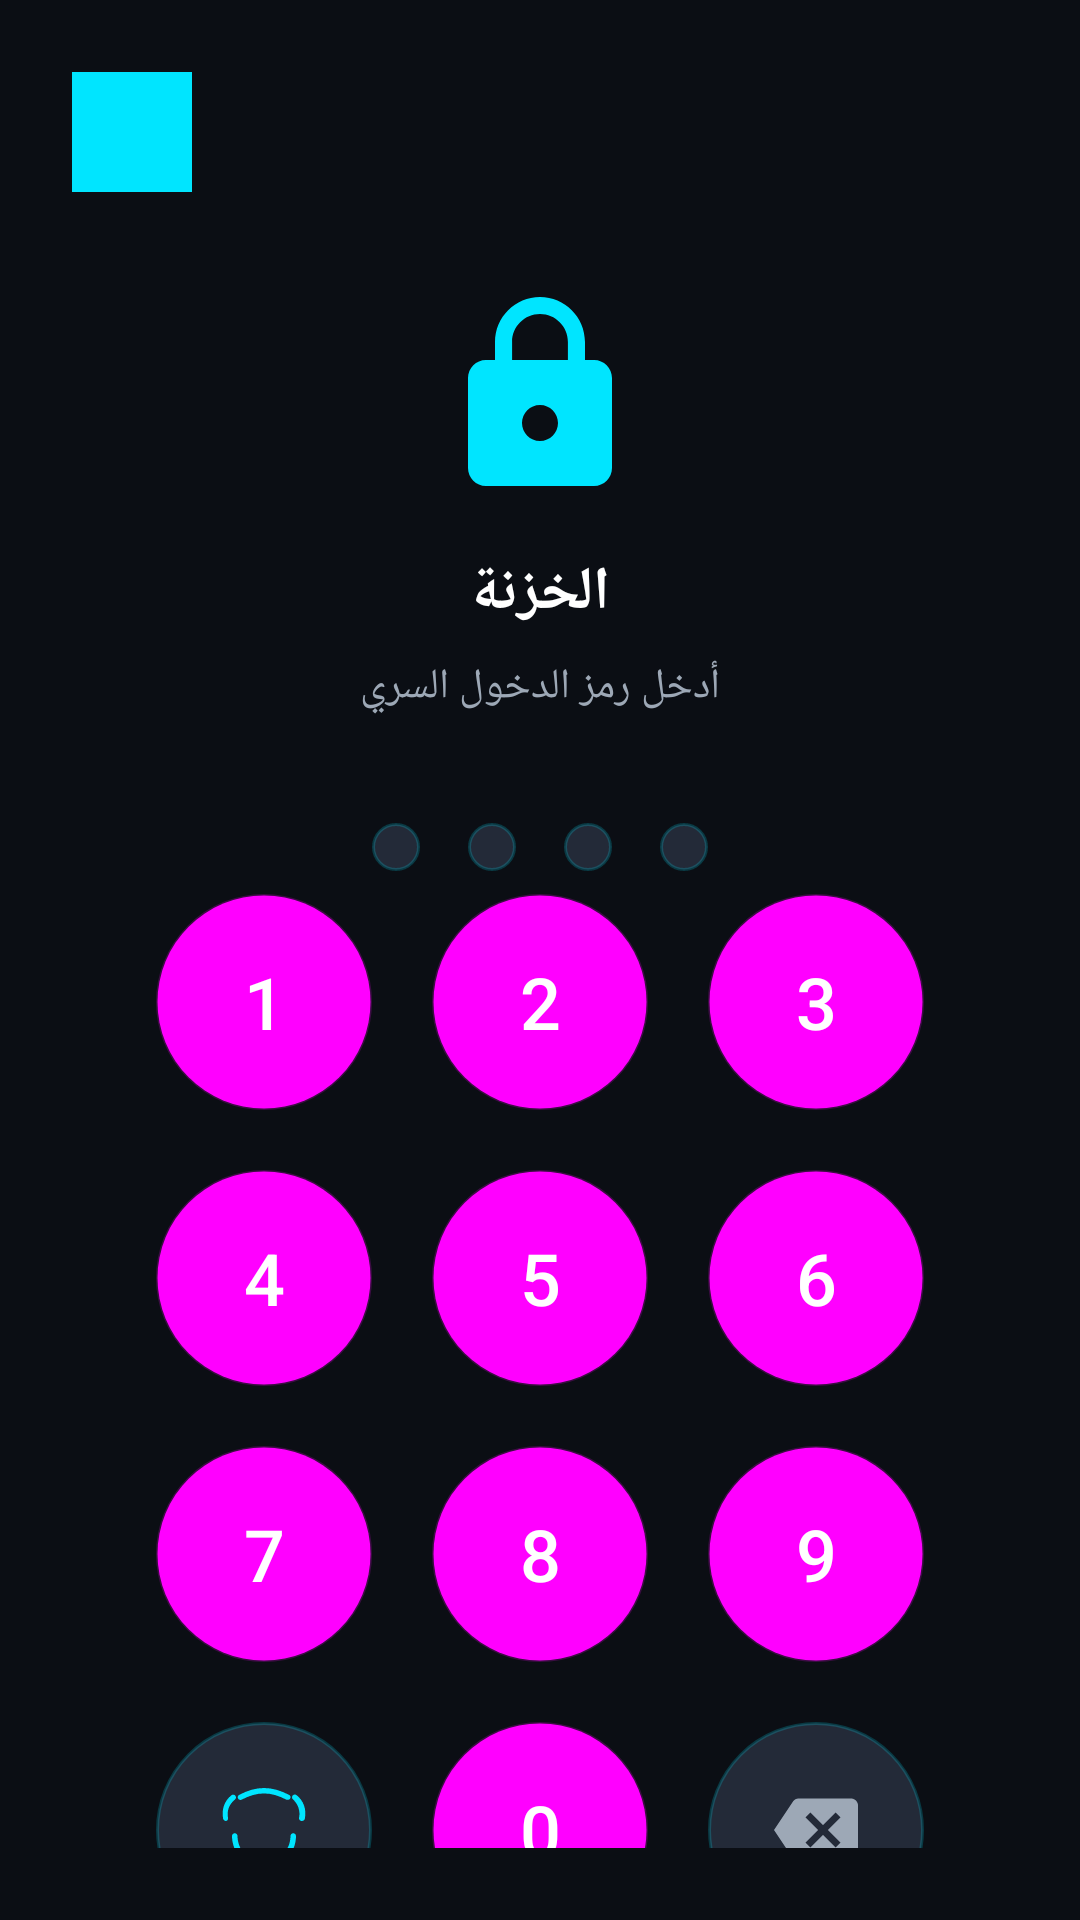

Icon click points for this 1080x1920 phone screenshot, format [x,y]:
Backspace: [816,1785]
vault lock: [540,391]
